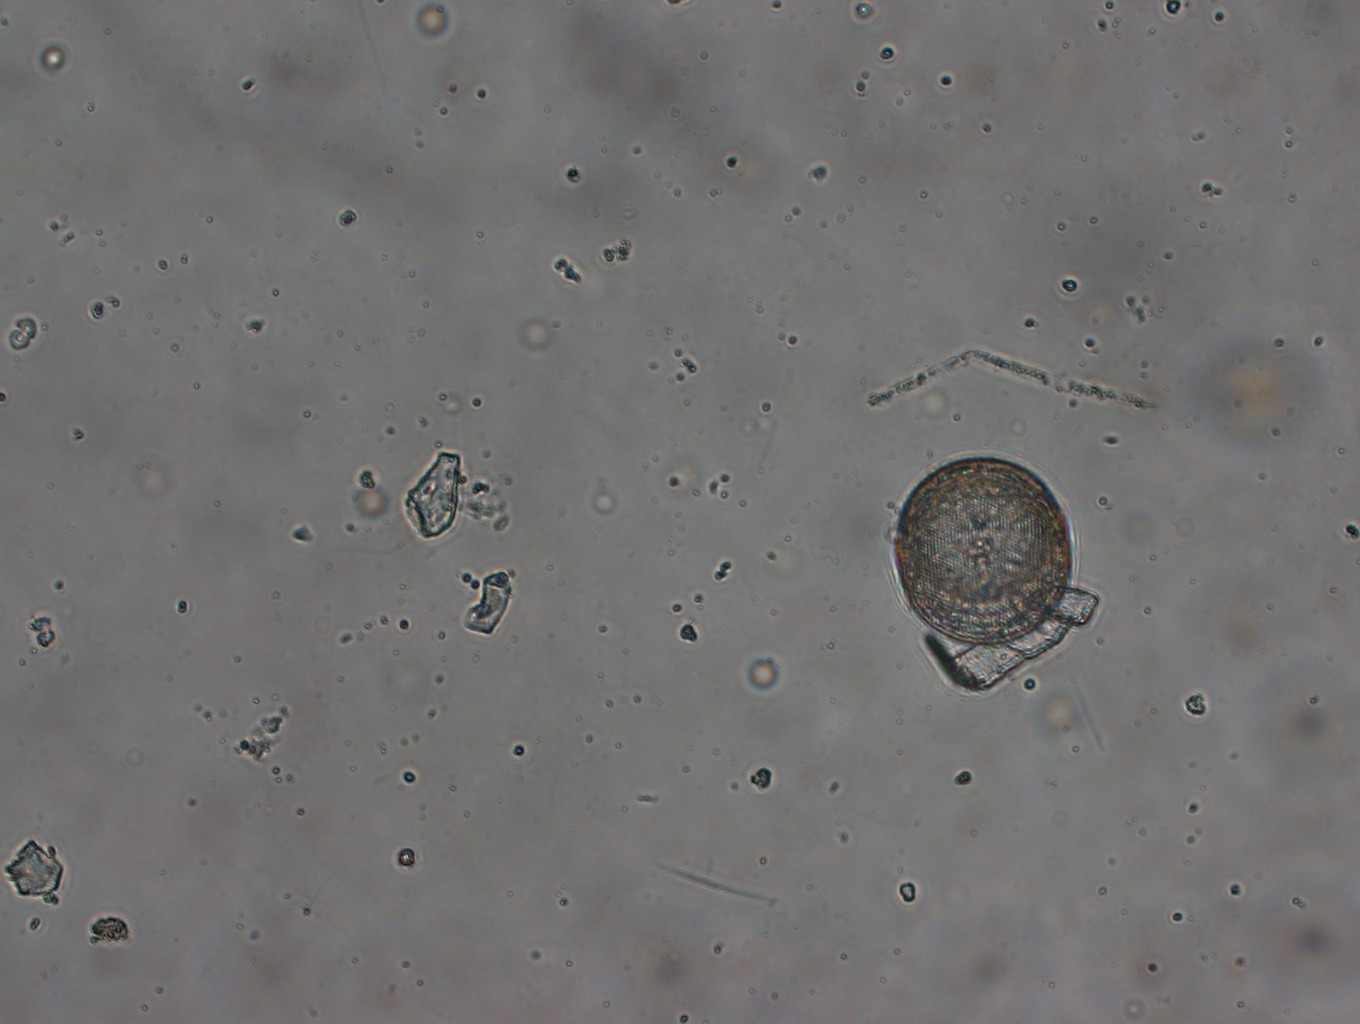coscinodiscus: (892, 453, 1073, 646)
